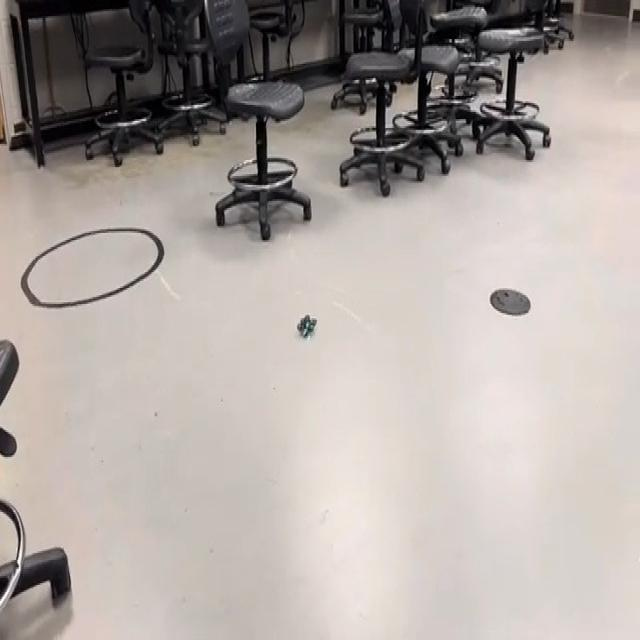drone: (290, 300, 323, 348)
